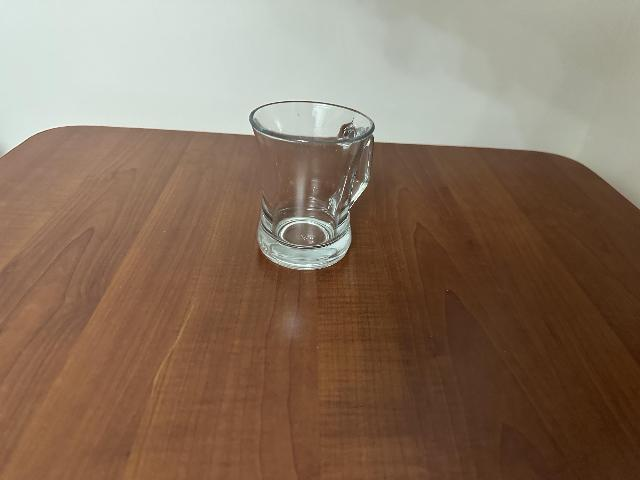Cam: (241, 95, 373, 276)
